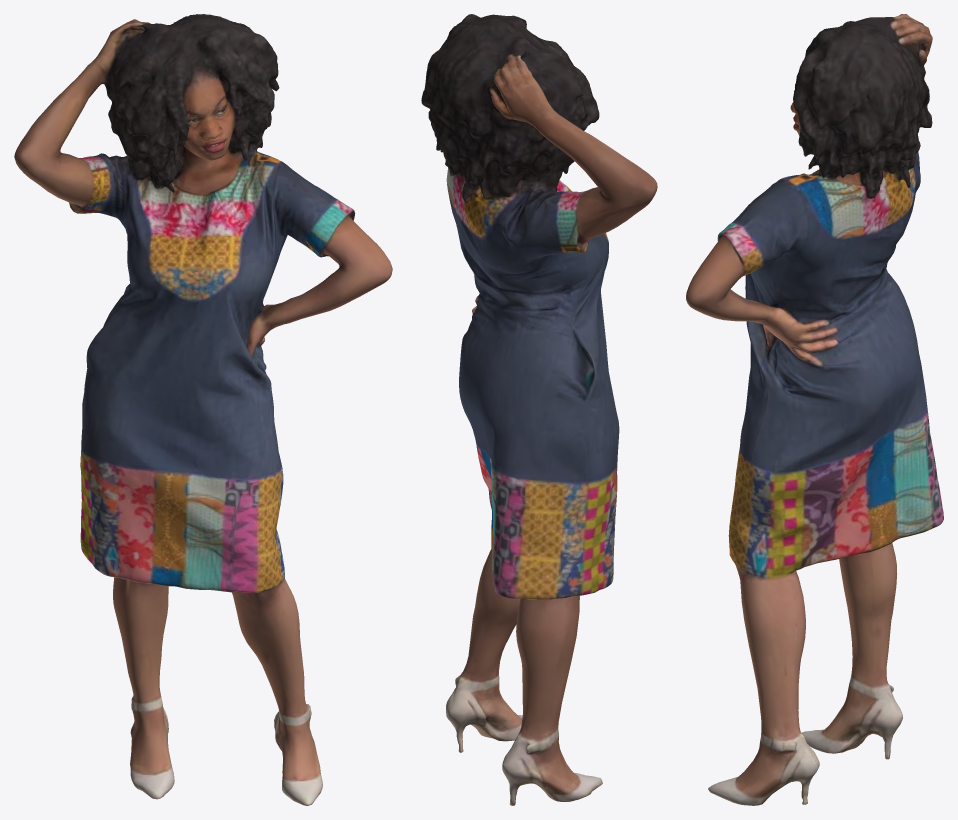
The model's file is person-standing-4.glb.
3 renders of one model, left to right at view 1: azimuth 30°, elevation 25°; view 2: azimuth 150°, elevation 25°; view 3: azimuth 270°, elevation 25°, orthographic. The views are drawn at different scales.
Parts seen in each view (by area): view 1: Object_0; view 2: Object_0; view 3: Object_0.
Boxes of the visible parts, left/top/right/bottom form: Object_0: left=14, top=14, right=392, bottom=805; Object_0: left=421, top=14, right=657, bottom=805; Object_0: left=686, top=14, right=943, bottom=805.
Bounding box in the file's own units: 0.6708 × 1.7 × 0.5315.
1 material, 1 textured.
